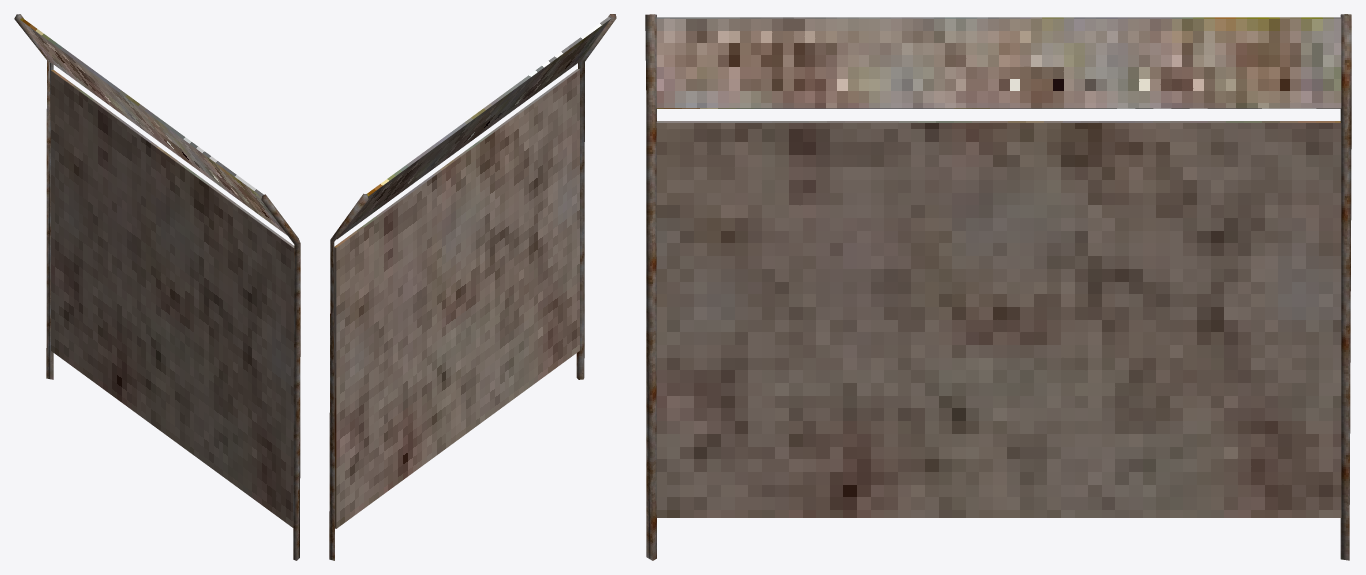
File: bw-fence.lod2.glb
3 views of the same model, side by side, from view 1: azimuth 30°, elevation 25°; view 2: azimuth 150°, elevation 25°; view 3: azimuth 270°, elevation 25° (orthographic). The views are drawn at different scales.
Parts seen in each view (by area): view 1: Object_4; view 2: Object_4; view 3: Object_4.
Boxes of the visible parts, bbox=[...] form: Object_4: bbox=[14, 14, 300, 560]; Object_4: bbox=[329, 14, 616, 560]; Object_4: bbox=[645, 14, 1351, 560].
Size of the model in its own units: 0.3531 by 3.2 by 3.91.
1 material, 1 textured.
